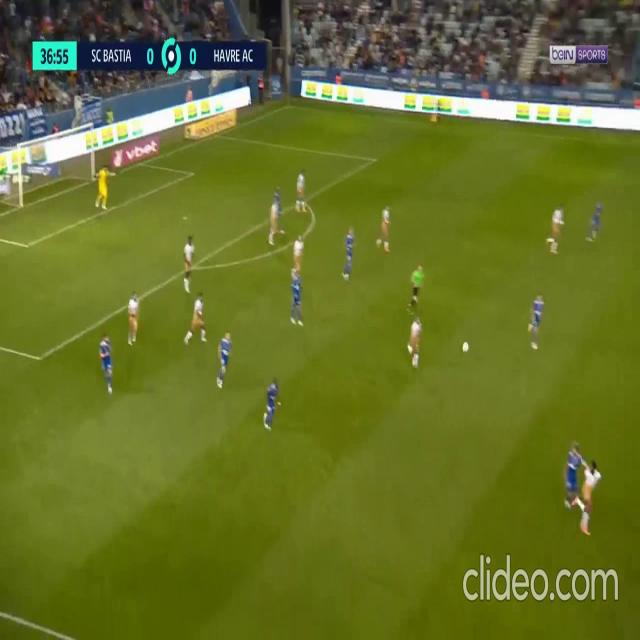ball: (462, 341, 469, 352)
goalkeeper: (95, 163, 109, 209)
player: (574, 456, 600, 536), (185, 291, 208, 344), (562, 443, 578, 512), (264, 378, 282, 431), (528, 292, 544, 350), (100, 330, 114, 396), (547, 204, 565, 254), (217, 330, 232, 388), (408, 314, 423, 367), (290, 267, 303, 327), (376, 204, 391, 254), (268, 196, 283, 246), (407, 263, 422, 313), (587, 200, 604, 242), (128, 291, 141, 345), (343, 227, 355, 280), (184, 236, 194, 292), (296, 169, 307, 213), (292, 235, 305, 272)
referee: (408, 261, 424, 311), (431, 92, 443, 126)
